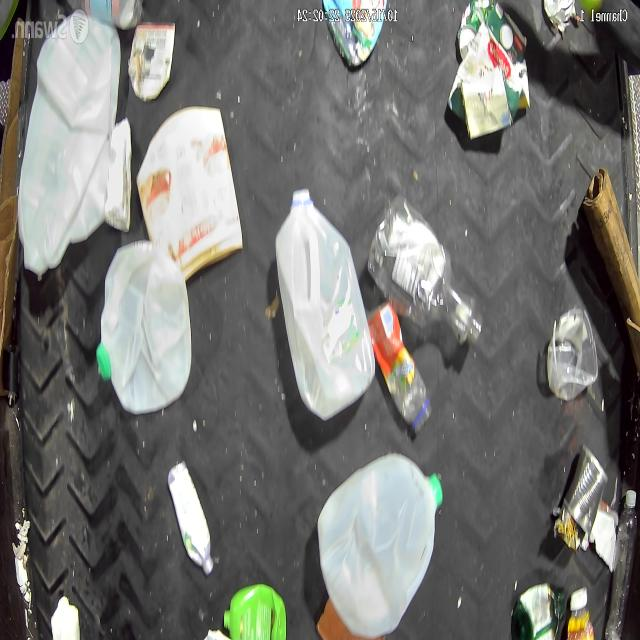can: (562, 444, 607, 538), (129, 19, 175, 103), (456, 0, 491, 60)
milk_jug: (16, 16, 122, 280), (315, 448, 445, 640), (274, 186, 377, 421), (95, 238, 193, 417)
plastic_bottle: (367, 194, 484, 348), (604, 487, 638, 640)
